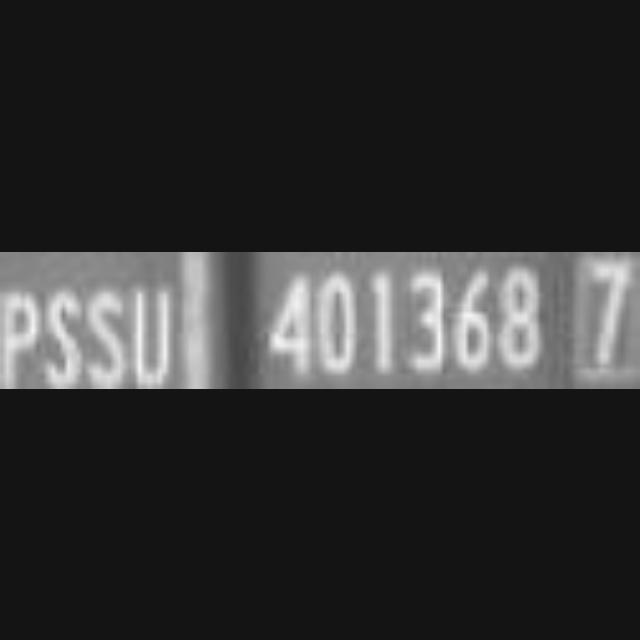0: (314, 268, 362, 376)
1: (364, 262, 402, 378)
3: (406, 260, 452, 382)
4: (266, 265, 316, 377)
6: (452, 260, 496, 380)
7: (580, 253, 640, 379)
8: (498, 257, 548, 375)
p: (0, 282, 46, 382)
s: (86, 284, 132, 388), (43, 284, 87, 388)
u: (127, 282, 177, 388)
